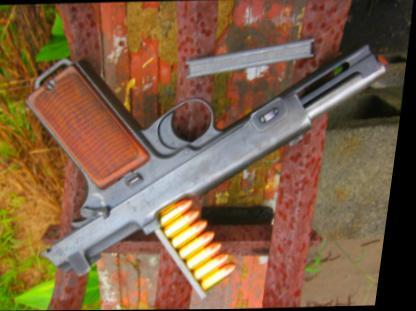pistol: (6, 44, 394, 280)
